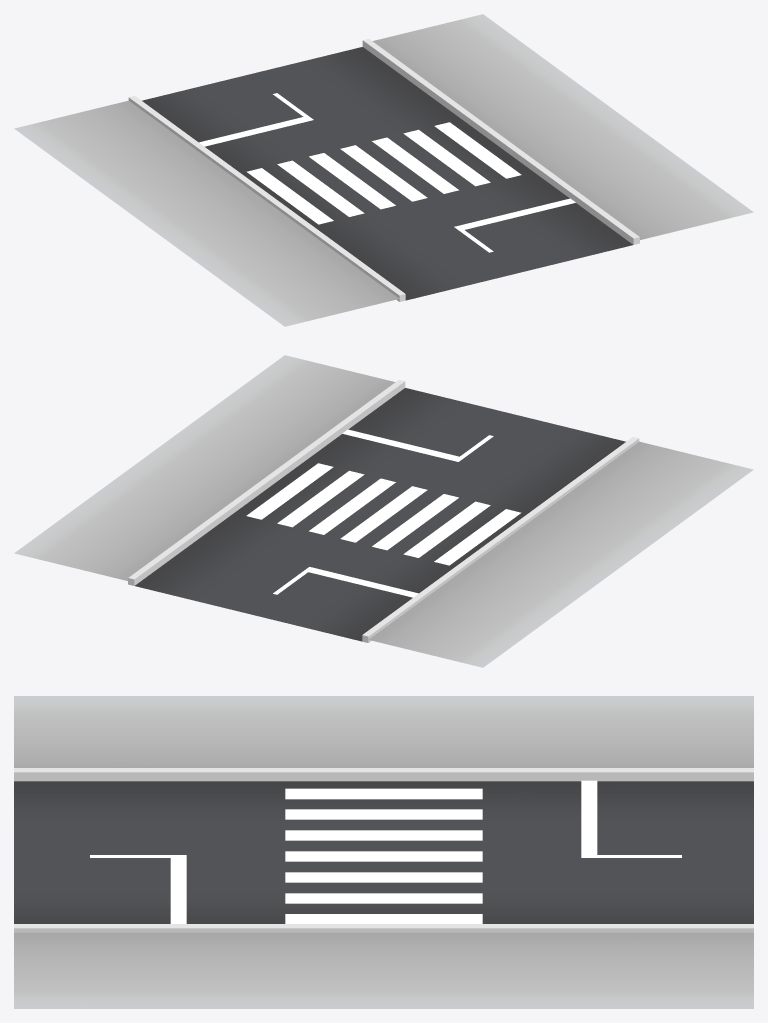
Rendered from city2-road-010.glb.
3 views of the same model, one above another, from view 1: azimuth 30°, elevation 25°; view 2: azimuth 150°, elevation 25°; view 3: azimuth 270°, elevation 25° (orthographic). The views are drawn at different scales.
Visible parts, largest first — view 1: road_010; view 2: road_010; view 3: road_010.
Boxes of the visible parts, bbox=[...] form: road_010: bbox=[14, 14, 753, 326]; road_010: bbox=[14, 355, 753, 667]; road_010: bbox=[14, 696, 753, 1008].
Size of the model in its own units: 15 by 0.2 by 15.
1 material, 1 textured.
